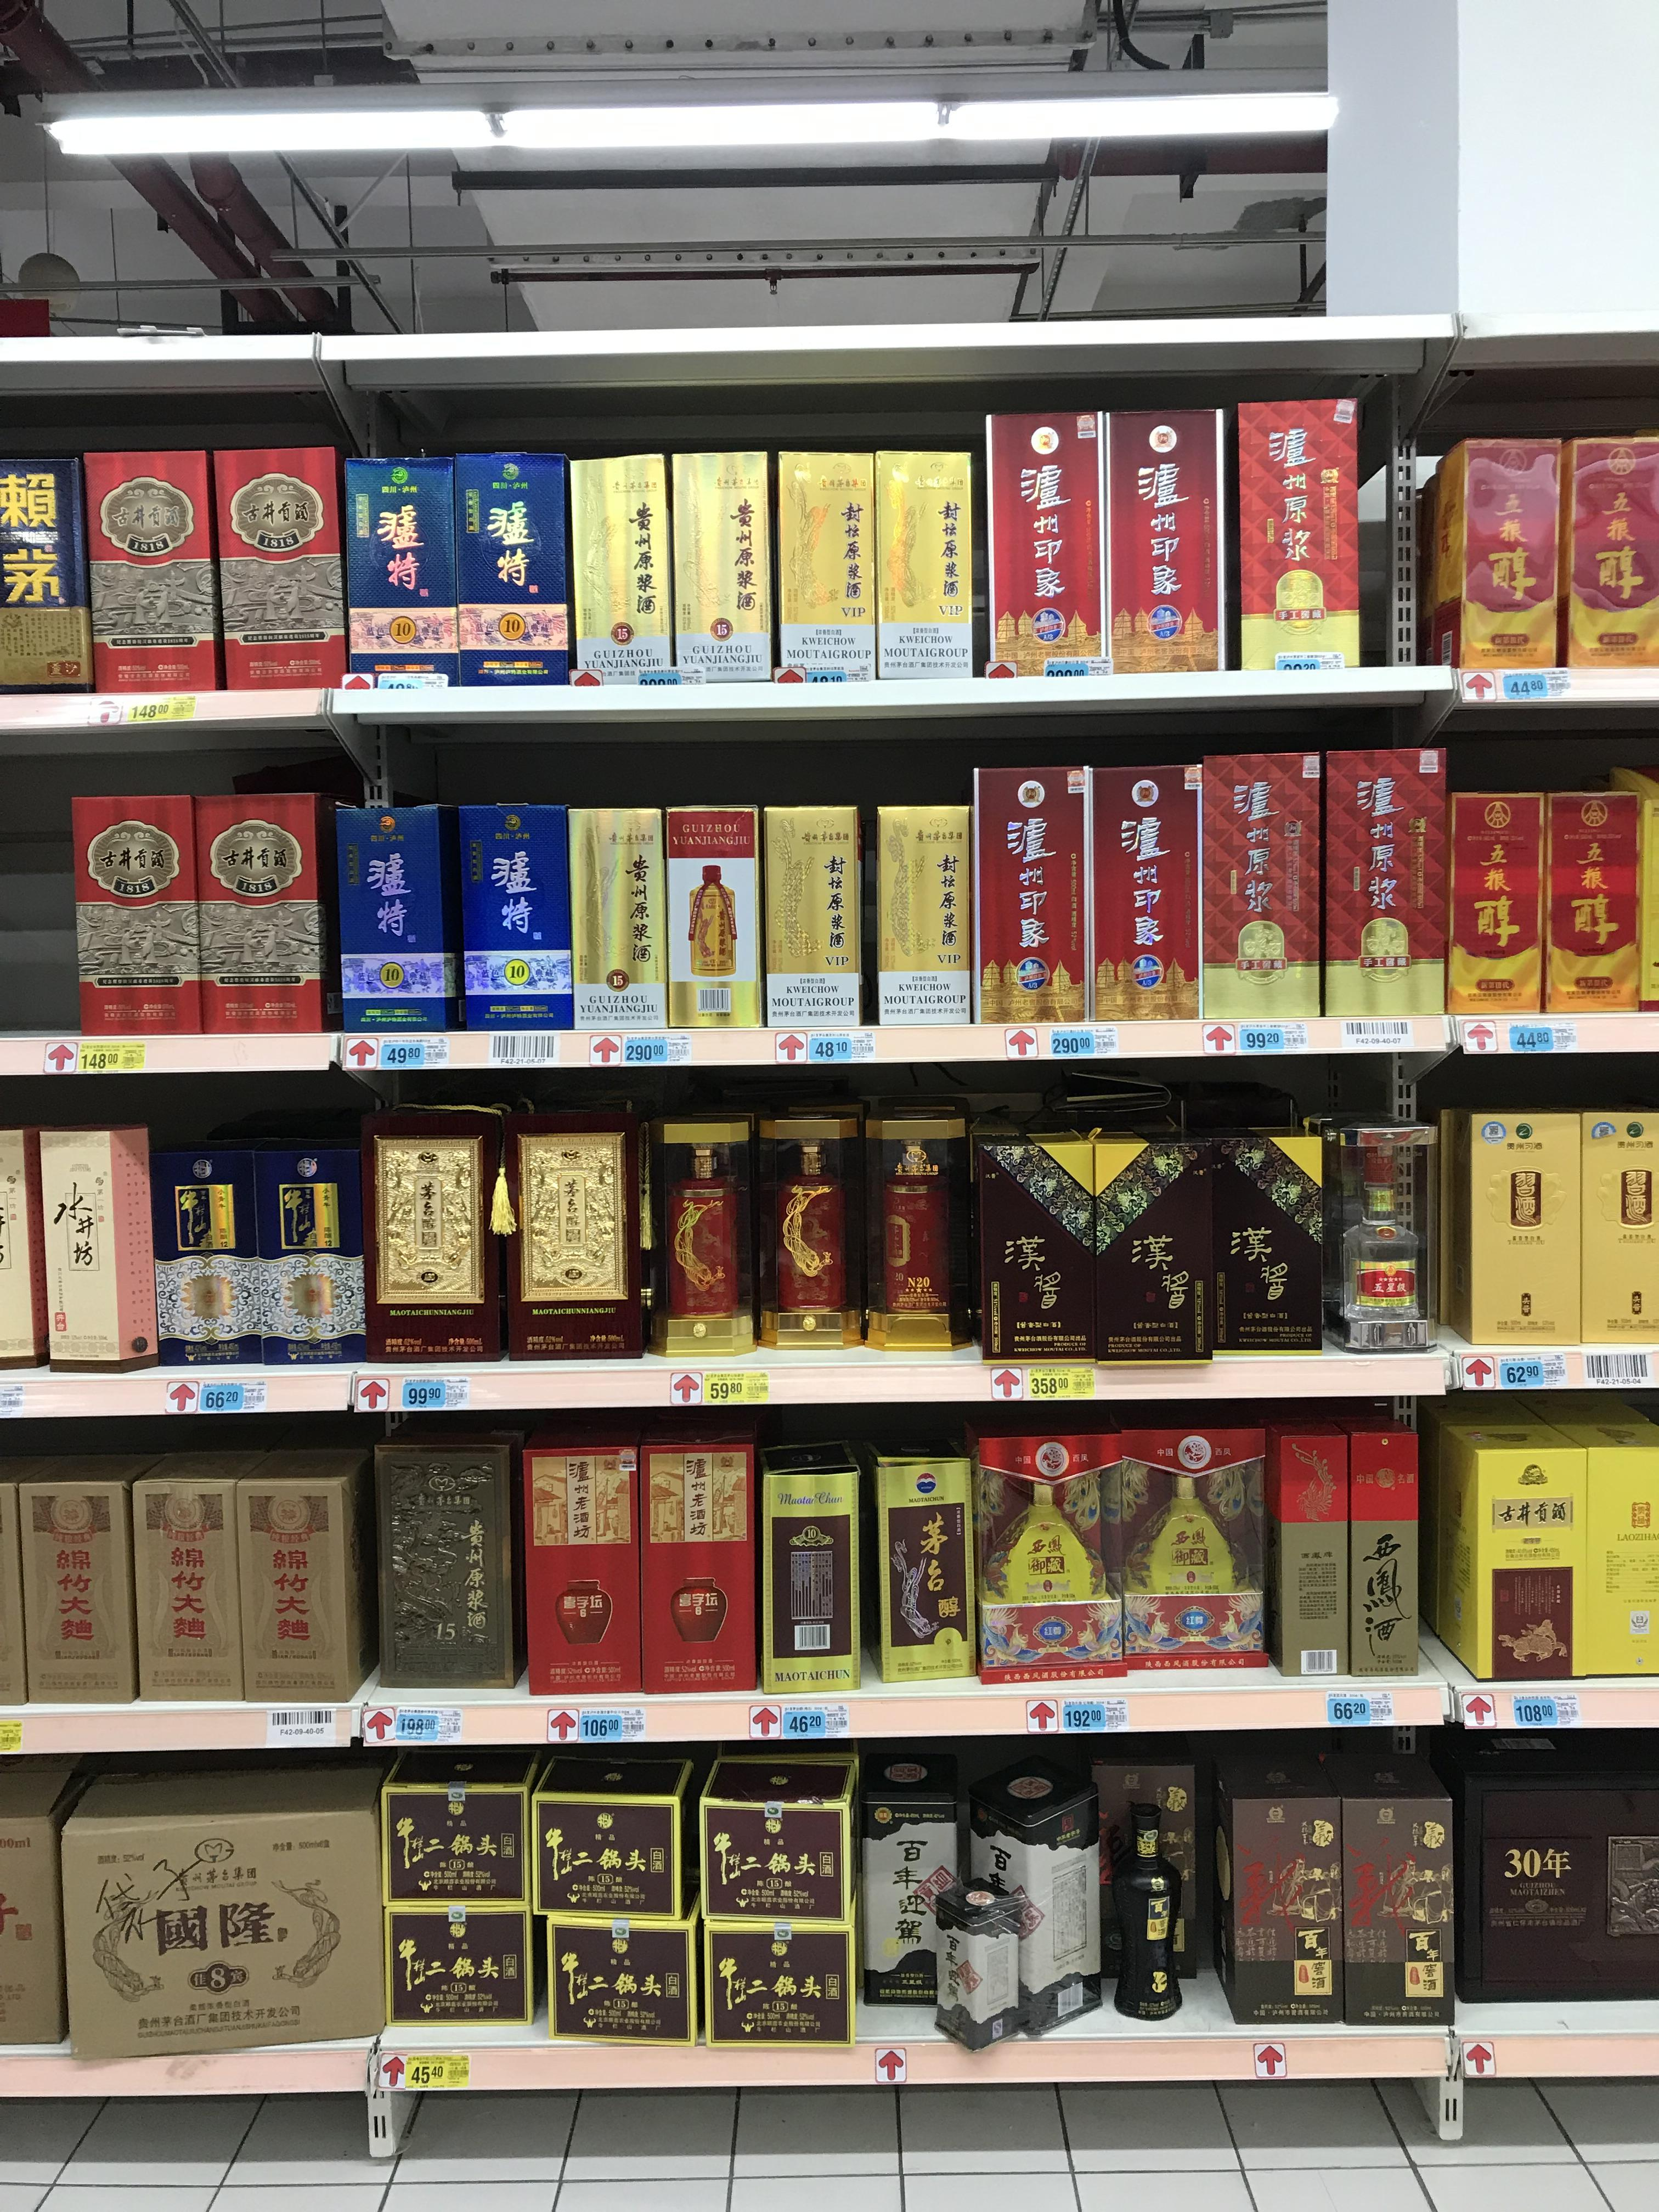bag: (1330, 1745, 1457, 2027), (70, 789, 195, 1036), (972, 1116, 1094, 1362), (214, 441, 336, 685), (197, 794, 321, 1031), (342, 808, 453, 1026), (1100, 1125, 1201, 1364), (2, 442, 73, 683)
bottle: (1098, 1811, 1185, 2026), (1349, 1132, 1424, 1359)
box: (1438, 1420, 1615, 1679), (951, 1770, 1101, 2041), (369, 1437, 512, 1695), (1098, 404, 1223, 674), (633, 1420, 756, 1691), (1084, 766, 1208, 1038), (692, 1843, 861, 2041), (1190, 759, 1314, 1019), (995, 413, 1115, 674), (364, 1111, 495, 1352), (521, 1423, 640, 1688), (509, 1109, 634, 1355), (838, 1759, 964, 2003), (1323, 758, 1445, 1008), (1202, 1127, 1333, 1359), (1455, 1104, 1581, 1338), (1425, 448, 1561, 660), (12, 1468, 138, 1698), (42, 1118, 153, 1369), (237, 1467, 361, 1689), (460, 805, 579, 1028), (990, 1442, 1101, 1679), (1535, 779, 1647, 1008), (1143, 1430, 1249, 1670), (138, 1468, 249, 1691), (530, 1892, 695, 2041), (983, 775, 1077, 1031), (1439, 782, 1544, 1008), (762, 1447, 859, 1688), (457, 458, 561, 679), (868, 1106, 965, 1343), (875, 1453, 976, 1681), (871, 449, 972, 676), (673, 455, 774, 679), (774, 455, 875, 679), (1560, 442, 1657, 669), (875, 803, 974, 1024), (575, 453, 671, 681), (342, 458, 450, 660), (1565, 1101, 1657, 1332), (758, 1122, 856, 1339), (760, 806, 856, 1024), (570, 805, 664, 1021), (655, 1125, 748, 1341), (666, 810, 758, 1026), (1342, 1421, 1422, 1667), (1267, 1420, 1344, 1674), (284, 1144, 359, 1360), (0, 1109, 63, 1366), (152, 1137, 223, 1362), (186, 1141, 251, 1366)
others: (45, 1792, 406, 2069), (1457, 1761, 1657, 2001), (376, 1780, 547, 2020), (1234, 397, 1368, 662)
